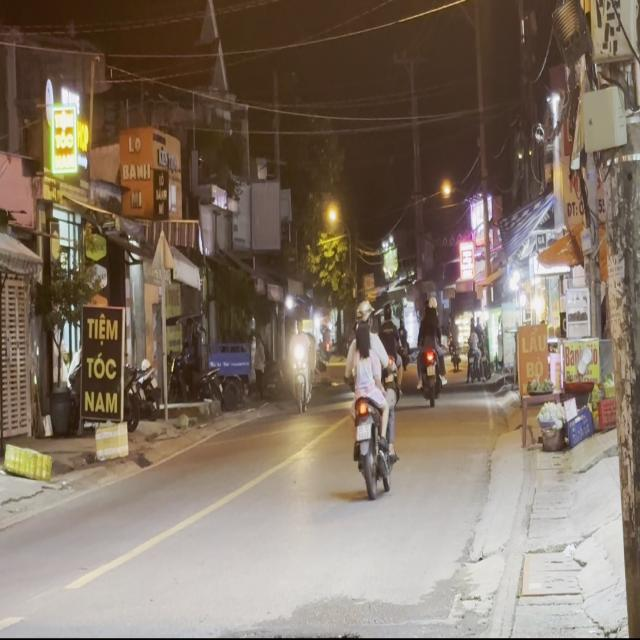helmet: (354, 298, 372, 329)
licenseplate: (344, 296, 398, 496)
motorcyclist: (354, 323, 372, 355)
nohelmet: (356, 423, 371, 439)
